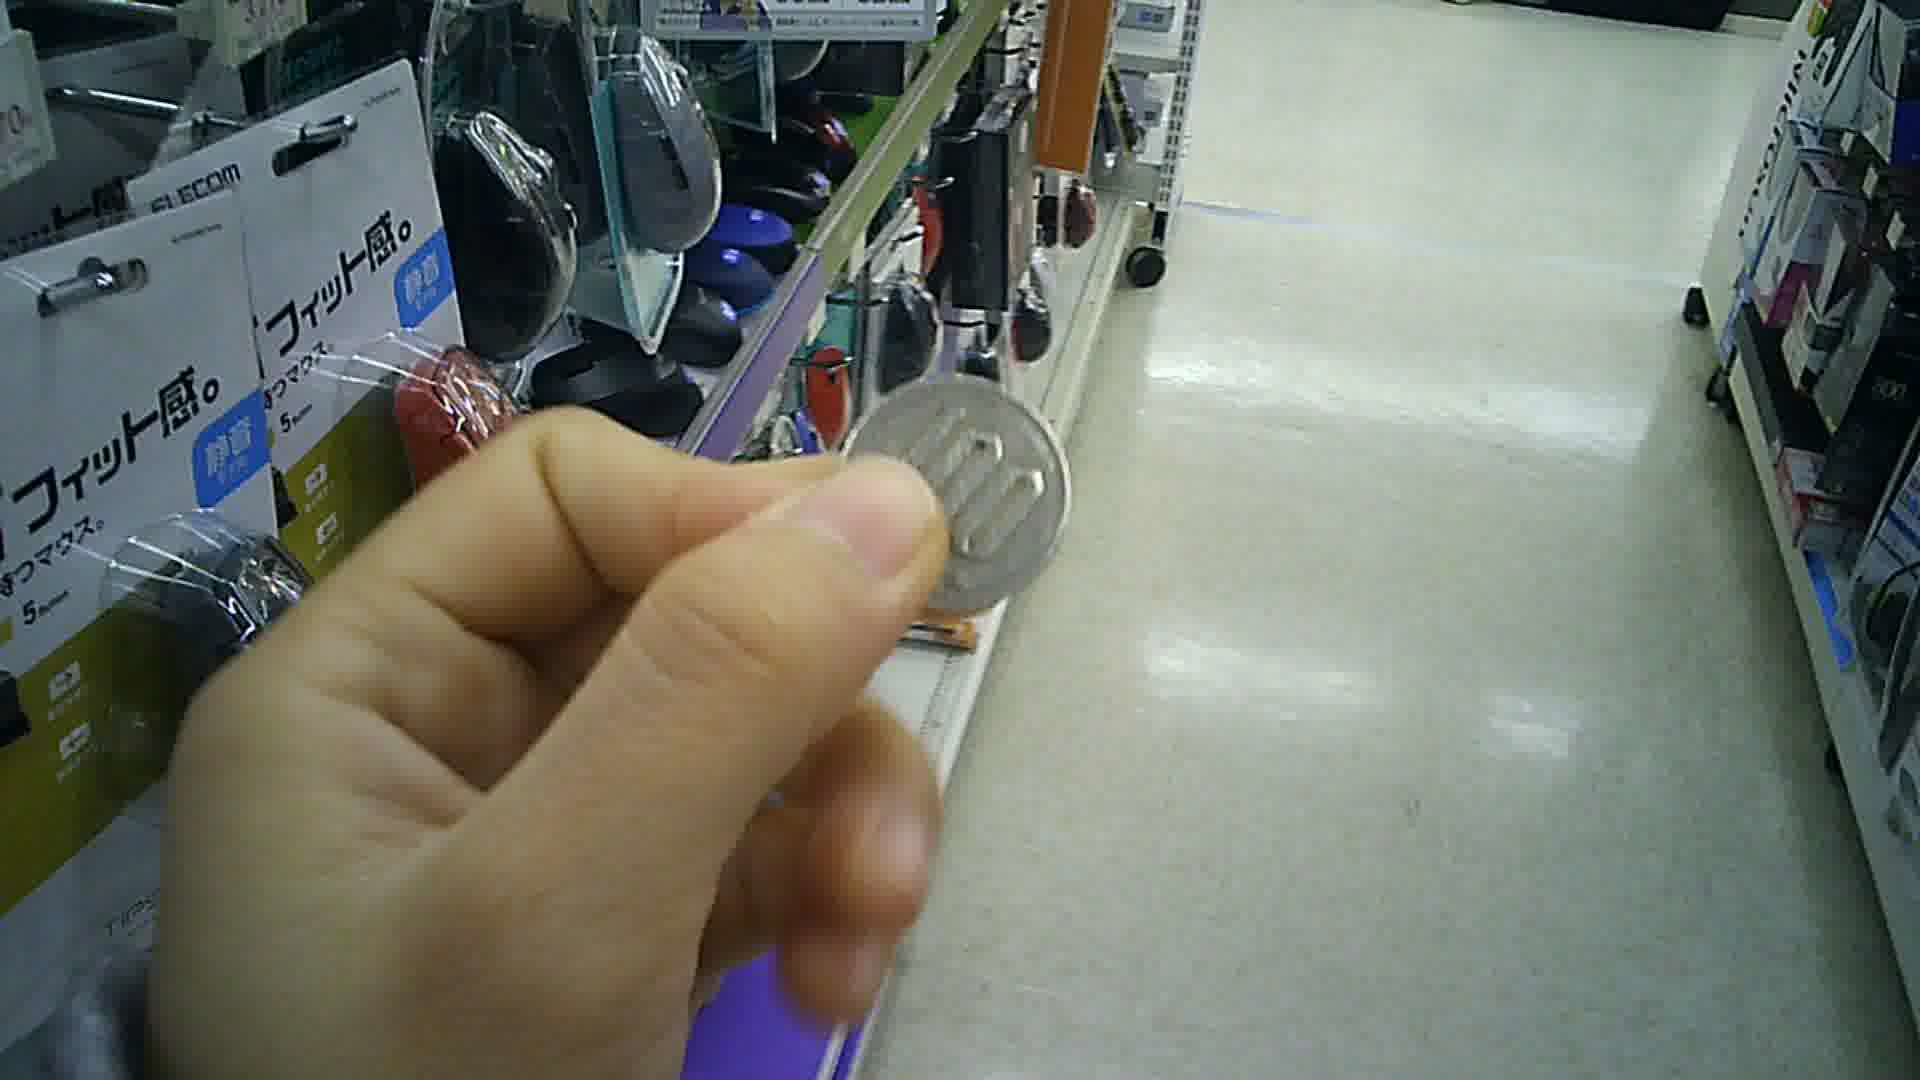100 Yen: (837, 363, 1077, 616)
